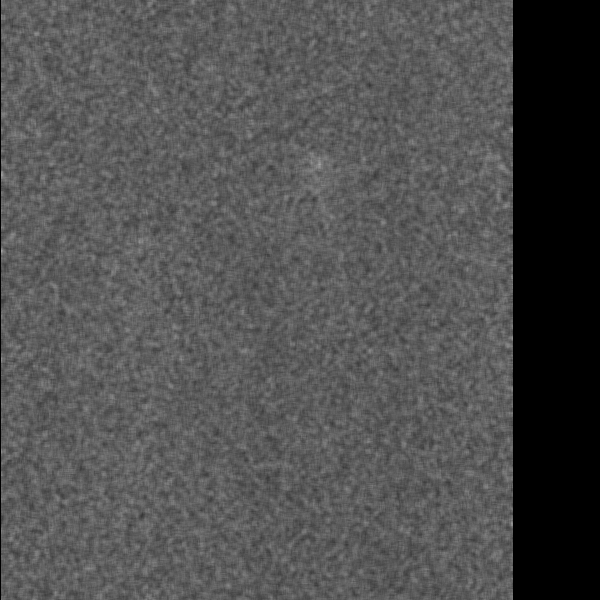spark: (373, 299, 401, 315)
